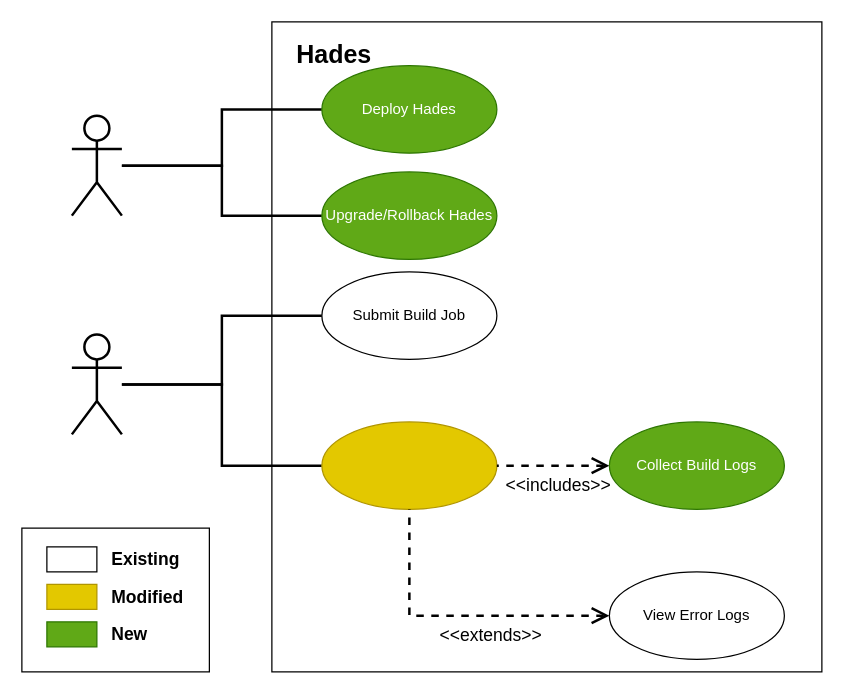
The diagram is 844 pixels wide and 694 high, and some of its shapes have lost their labels. The shapes that lost their labels are listed below. From the top down, each one's centre as x and y in pixels, then its label:
point (96, 165): System Administrator
point (96, 383): External Trigger
point (409, 465): View Build Status
